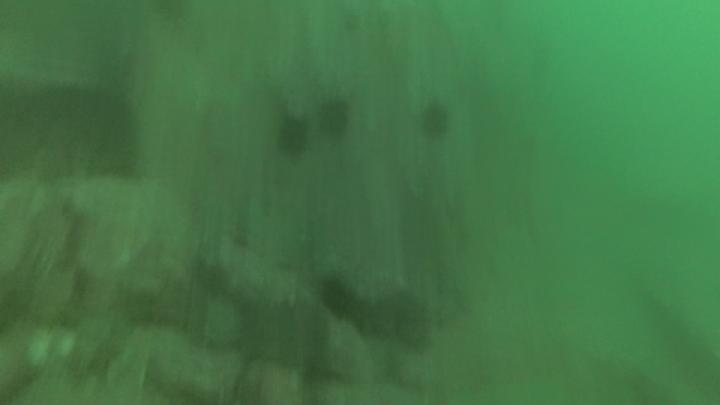echinus: (316, 275, 360, 321), (272, 114, 312, 161), (315, 96, 354, 141), (416, 98, 454, 144)
